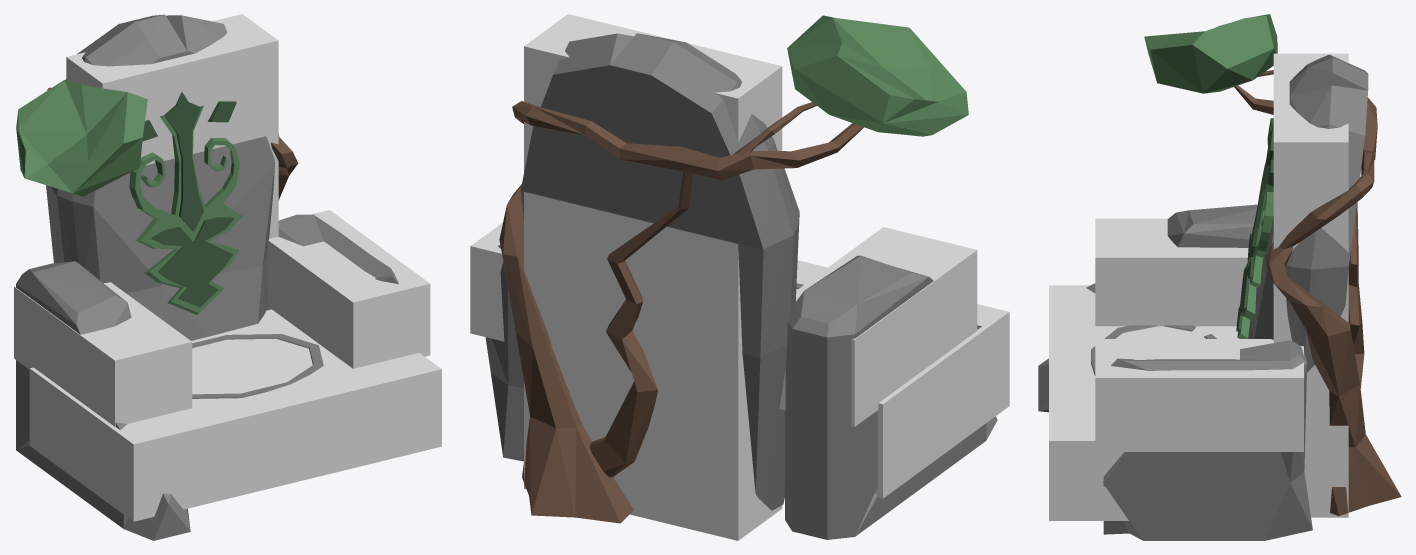
Rendered from elf_well.glb.
The picture shows the model from 3 angles, left to right: view 1: azimuth 30°, elevation 25°; view 2: azimuth 150°, elevation 25°; view 3: azimuth 270°, elevation 25°; orthographic projection. The views are drawn at different scales.
Visible parts, largest first — view 1: throne_1, Cube.001, Cube.003, Cube.004, Cube.002; view 2: throne_1, Cube.002, Cube.004, Cube.001, Cube.003; view 3: throne_1, Cube.003, Cube.002, Cube.004, Cube.001.
Part boxes in pixels (x1,y1,x2,y2): throne_1: (16,14,398,540); Cube.001: (29,309,441,521); Cube.003: (267,210,430,368); Cube.004: (14,282,192,426); Cube.002: (66,14,278,238); throne_1: (485,15,997,539); Cube.002: (524,14,782,540); Cube.004: (779,227,977,426); Cube.001: (796,260,1009,498); Cube.003: (470,222,504,341); throne_1: (1038,14,1401,540); Cube.003: (1095,339,1303,451); Cube.002: (1273,53,1348,517); Cube.004: (1095,218,1248,326); Cube.001: (1049,285,1238,520).
Bounding box in the file's own units: 2.62 × 2.73 × 2.23.
Materials: 1 (1 with a texture image).
